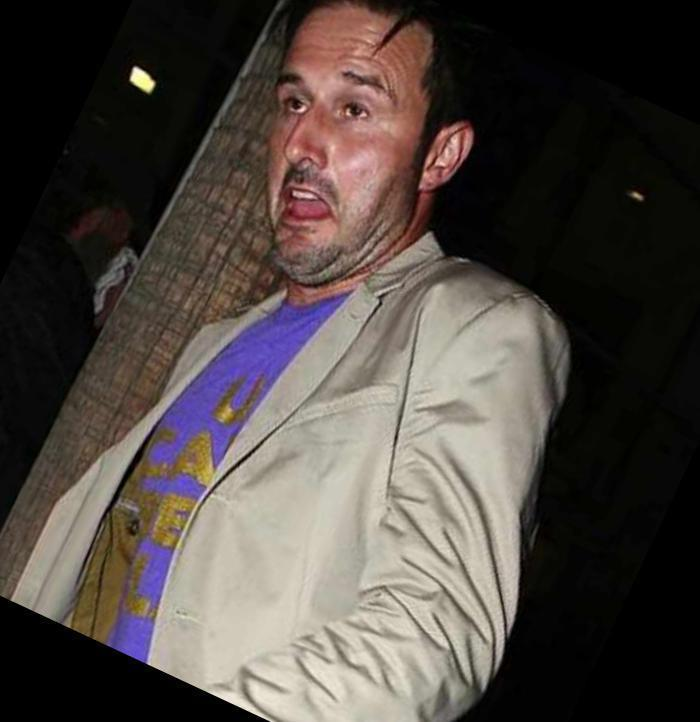Drunk: (277, 22, 417, 276)
